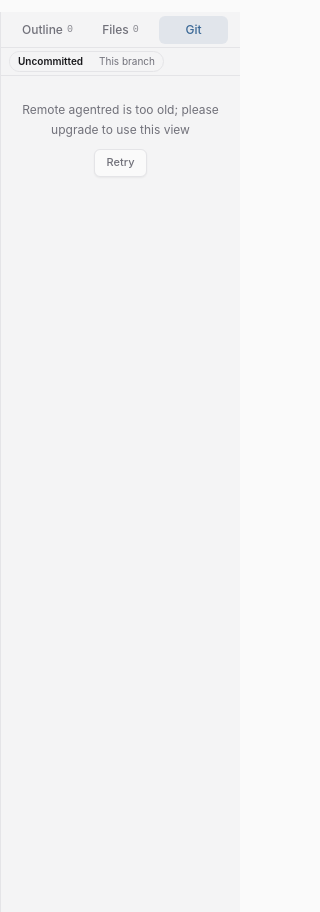
Test: Git tab · 空态、错误与自动重拉、非 git 仓库时的 chrome › surfaces the backend failure verbatim with a retry that refetches
Expected: the text "Remote agentred is too old; please upgrade to use this view" is shown, top-left (13, 100), bottom-right (228, 139)
Click the button "Retry" at (120, 163), box top-left (94, 149), bottom-right (147, 177)
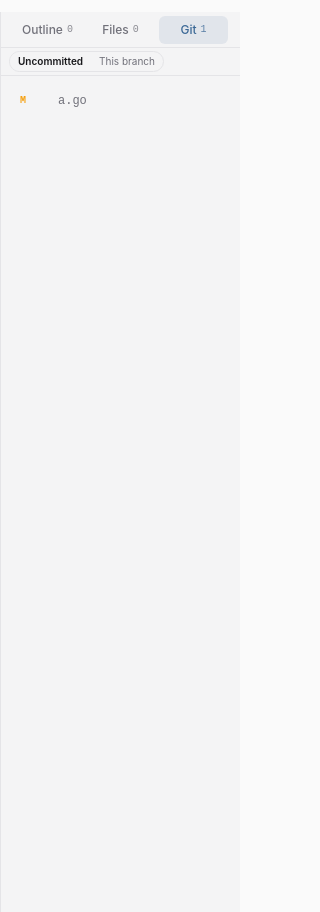
Now the text "a.go" is shown, box top-left (58, 92), bottom-right (87, 108)
